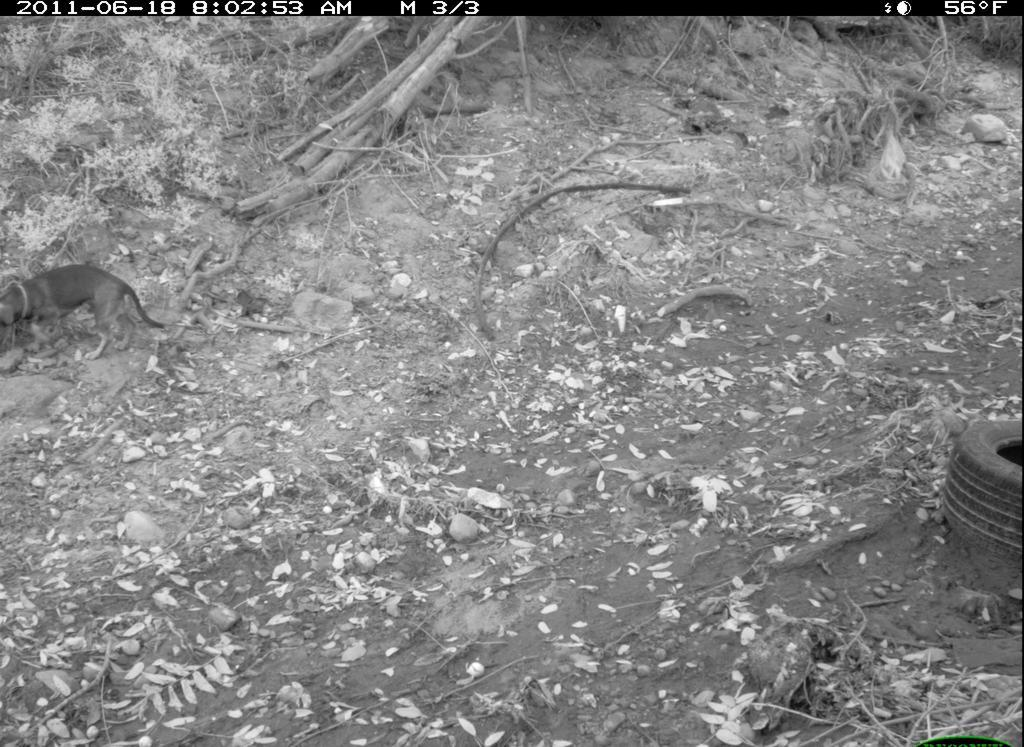dog: (1, 253, 177, 372)
